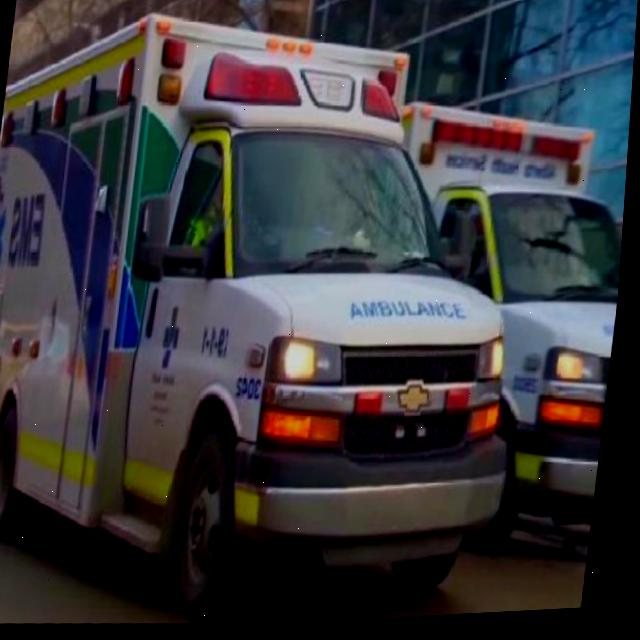emergency: (0, 0, 567, 640), (231, 88, 634, 584)
